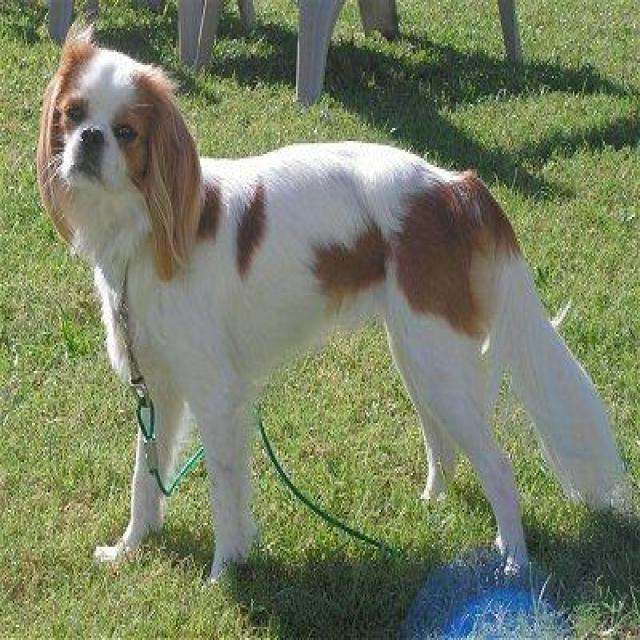husky: (37, 15, 627, 599)
